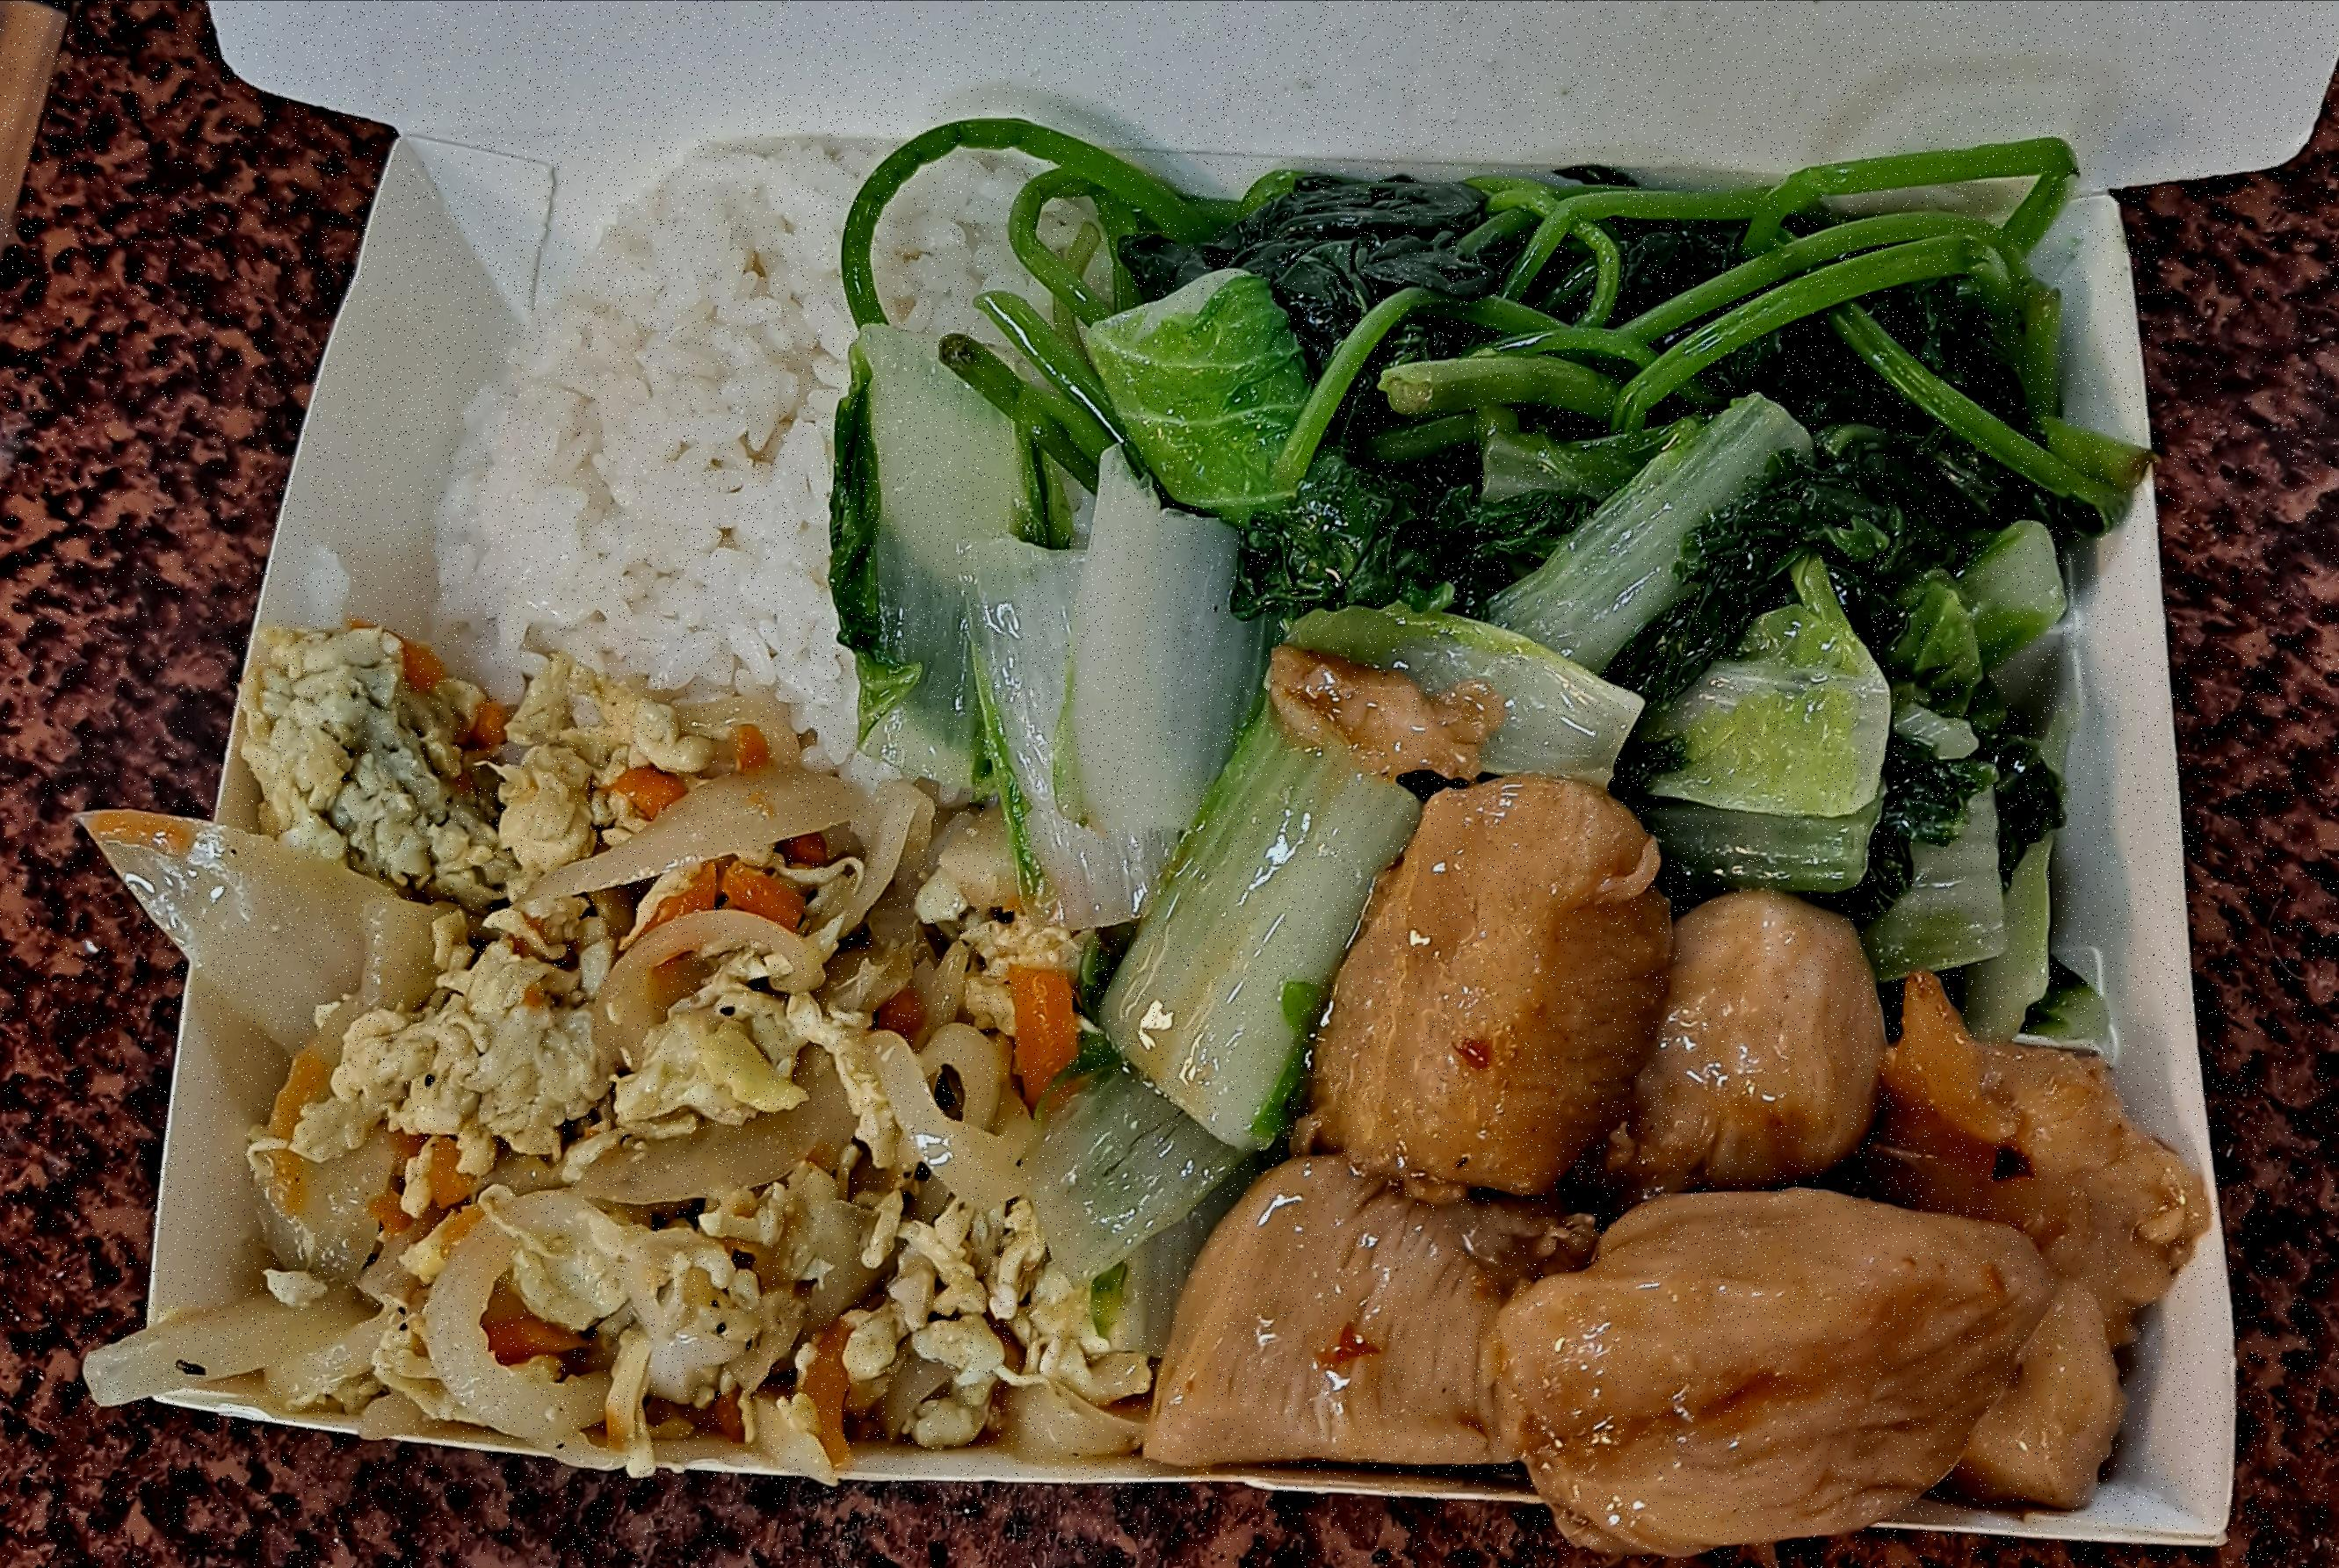box: (109, 84, 2274, 1559)
side dish: (100, 633, 1152, 1466), (970, 455, 2090, 966), (1129, 182, 2103, 579)
spicy chicken: (1155, 765, 2202, 1540)
white rice: (452, 156, 1162, 738)
